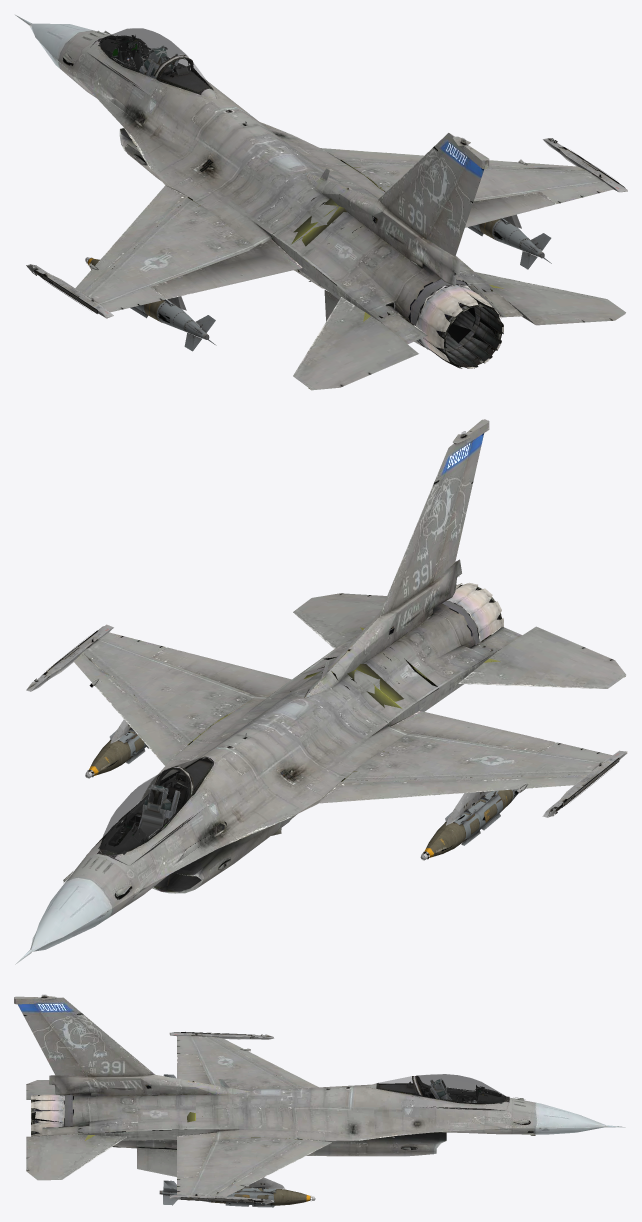
Rendered from type_f16c.glb.
3 views of the same model, one above another, from view 1: azimuth 30°, elevation 25°; view 2: azimuth 150°, elevation 25°; view 3: azimuth 270°, elevation 25° (orthographic). The views are drawn at different scales.
Parts seen in each view (by area): view 1: Object_19, Object_4, Object_12, Object_16, Object_10, Object_8, Object_3; view 2: Object_19, Object_4, Object_12, Object_16, Object_10, Object_3, Object_8, Object_9; view 3: Object_19, Object_4, Object_12, Object_16, Object_10, Object_3.
Part boxes in pixels (left/top/right/bottom): Object_19: left=15, top=15, right=625, bottom=390; Object_4: left=92, top=28, right=600, bottom=300; Object_12: left=85, top=218, right=551, bottom=351; Object_16: left=88, top=35, right=210, bottom=115; Object_10: left=26, top=138, right=627, bottom=318; Object_8: left=187, top=160, right=503, bottom=321; Object_3: left=130, top=45, right=179, bottom=84; Object_19: left=15, top=419, right=625, bottom=964; Object_4: left=92, top=431, right=600, bottom=868; Object_12: left=85, top=730, right=518, bottom=860; Object_16: left=90, top=758, right=212, bottom=864; Object_10: left=26, top=624, right=627, bottom=817; Object_3: left=118, top=784, right=180, bottom=849; Object_8: left=188, top=627, right=500, bottom=781; Object_9: left=110, top=719, right=491, bottom=825; Object_19: left=14, top=995, right=625, bottom=1196; Object_4: left=42, top=995, right=505, bottom=1195; Object_12: left=159, top=1074, right=315, bottom=1207; Object_16: left=378, top=1076, right=507, bottom=1110; Object_10: left=169, top=1031, right=274, bottom=1204; Object_3: left=430, top=1078, right=476, bottom=1102.
Size of the model in its own units: 9.56 by 4.63 by 14.96.
10 materials, 8 textured.
